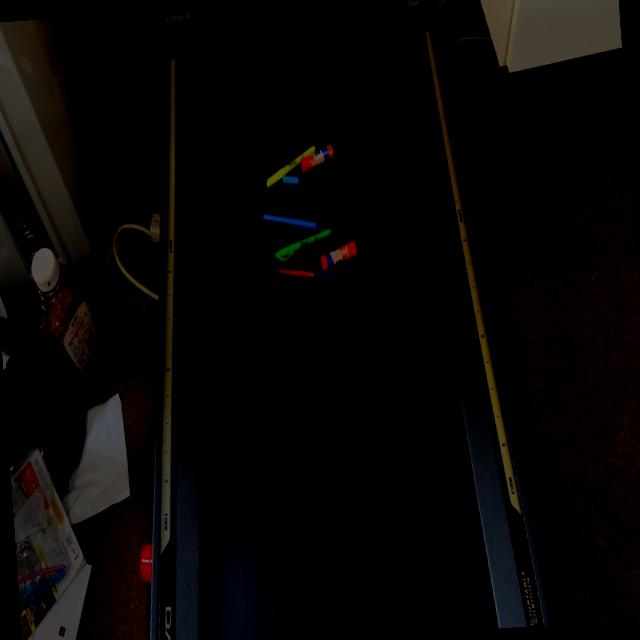Trash: (256, 140, 361, 292)
